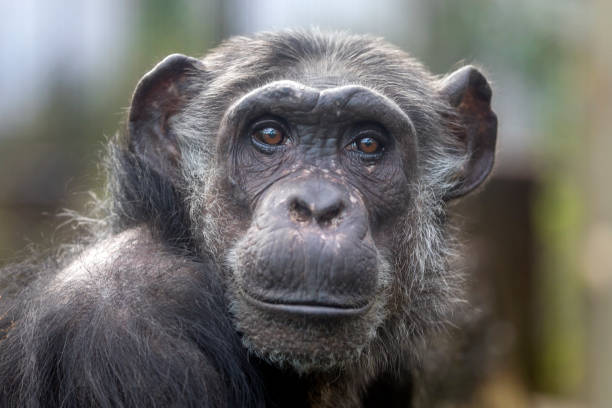chimpanzee: (77, 11, 507, 408)
